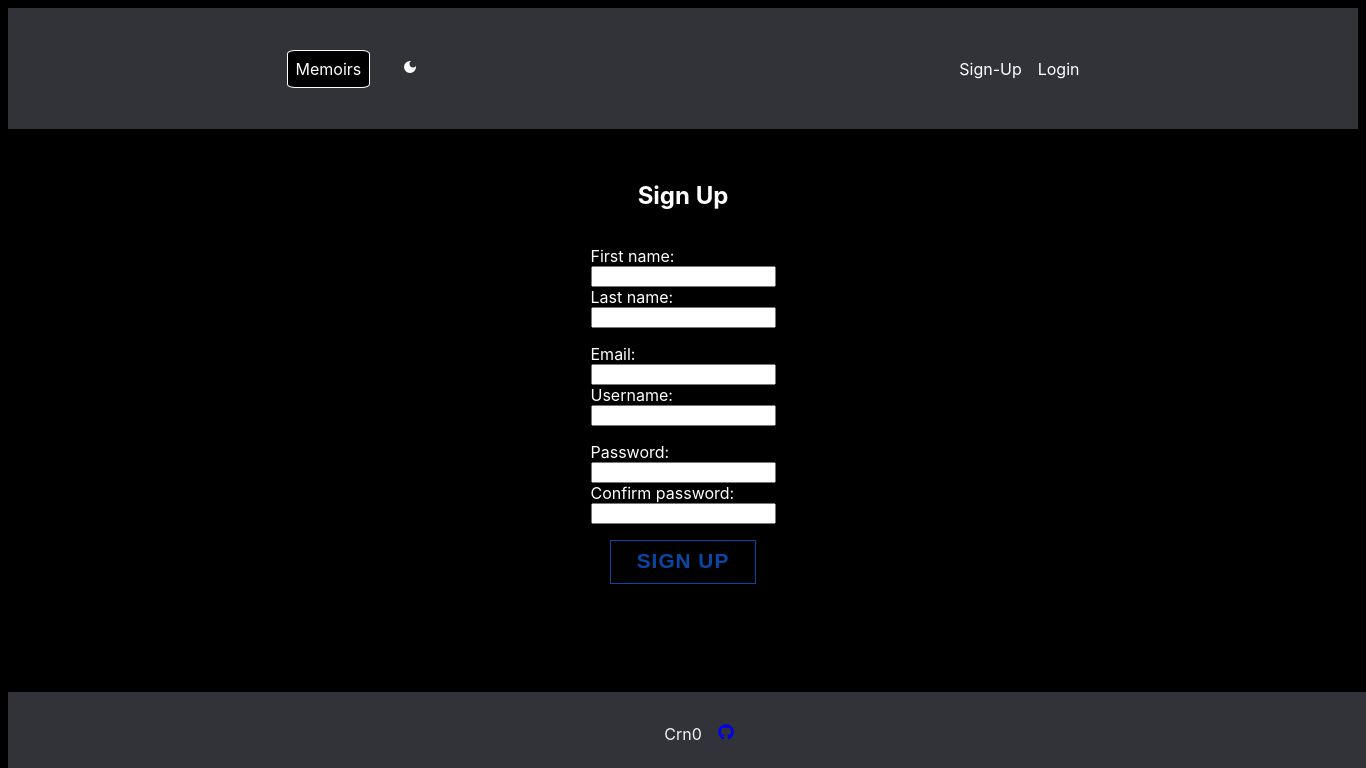
Test case: Sign-up form page › renders an error message if the username is already taken
Step 1. Type "Jane" into the field labelled "First name:" → (683, 276), box [590,266,776,287]
Step 2. Type "Doe" into the field labelled "Last name:" → (683, 318), box [590,307,776,328]
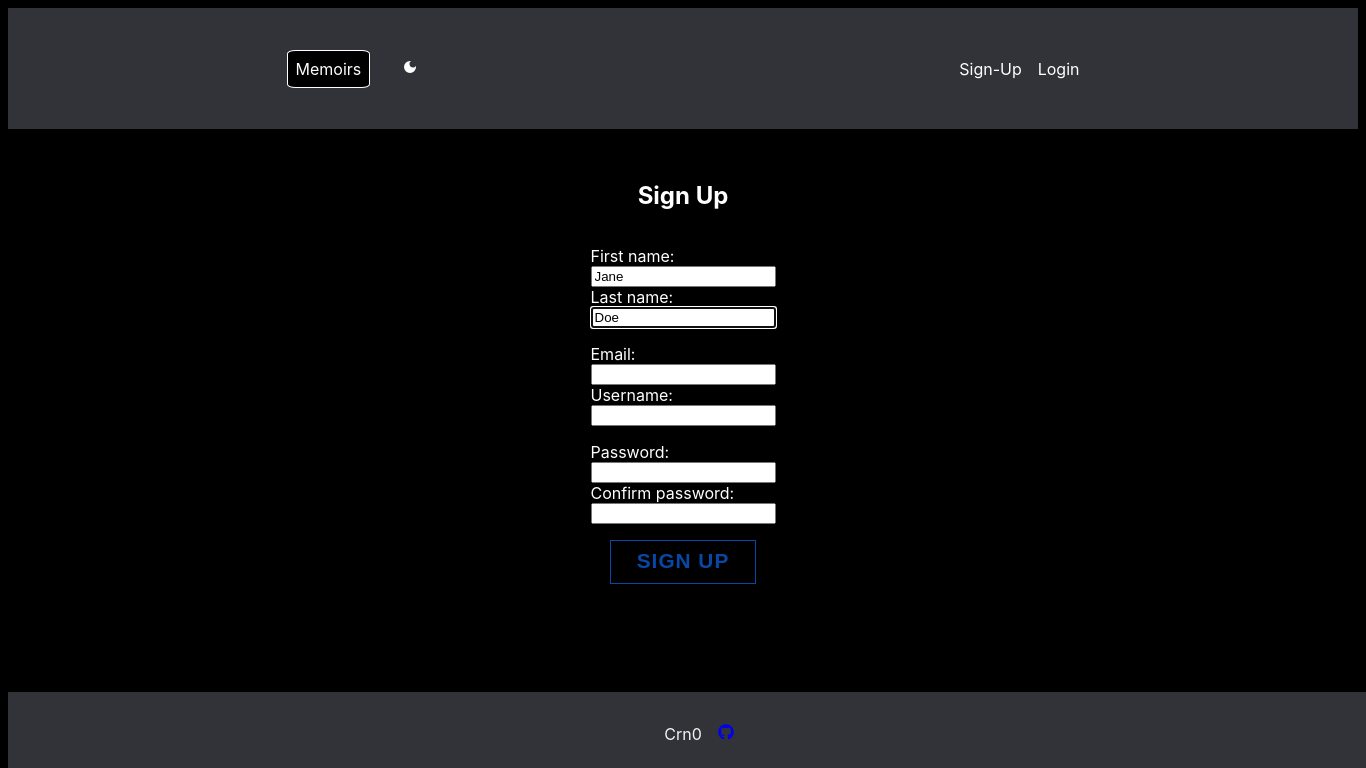
Step 3. Type "jaDoe" into the field labelled "Username:" → (683, 416), box [590,405,776,426]
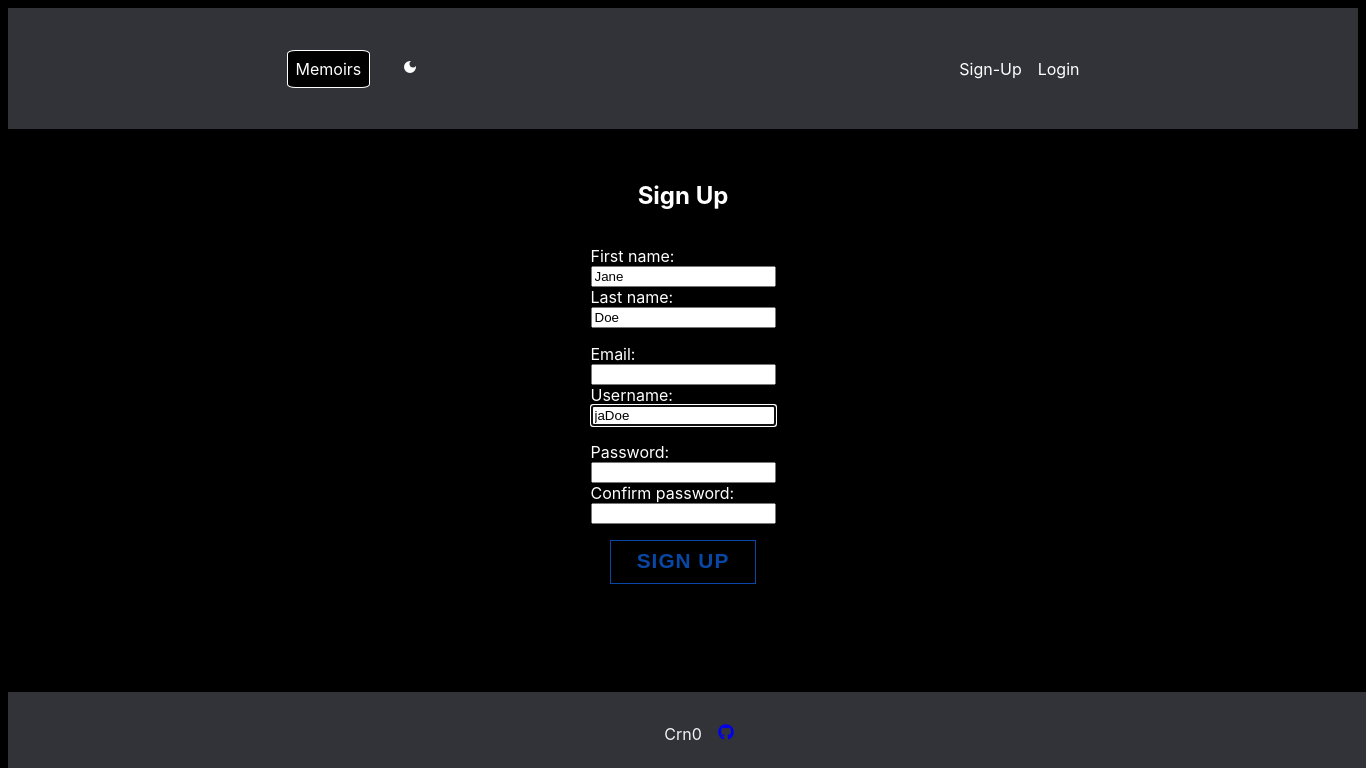
Step 4. Type "JD@gmail.com" into the field labelled "Email:" → (683, 374), box [590,364,776,385]
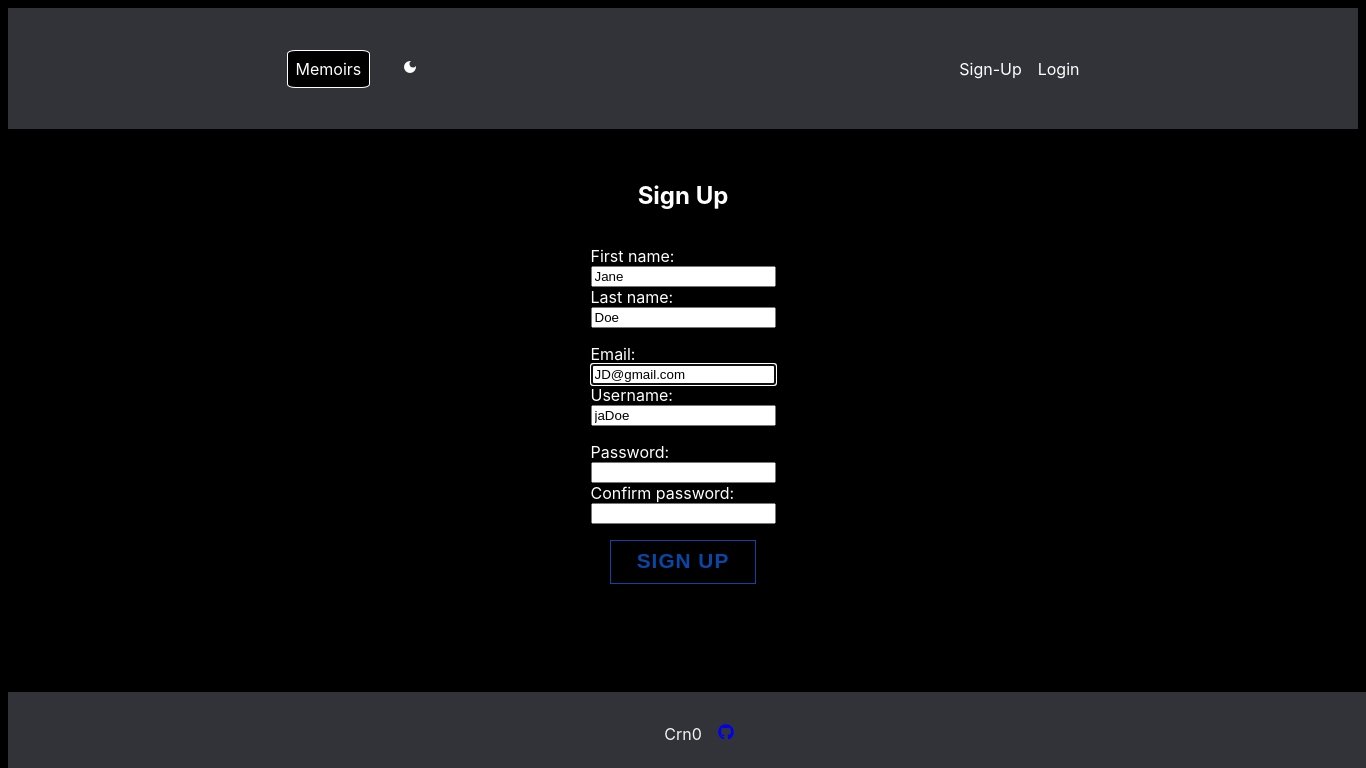
Step 5. Type "1234" into the password field labelled "Password:" → (683, 472), box [590,462,776,483]
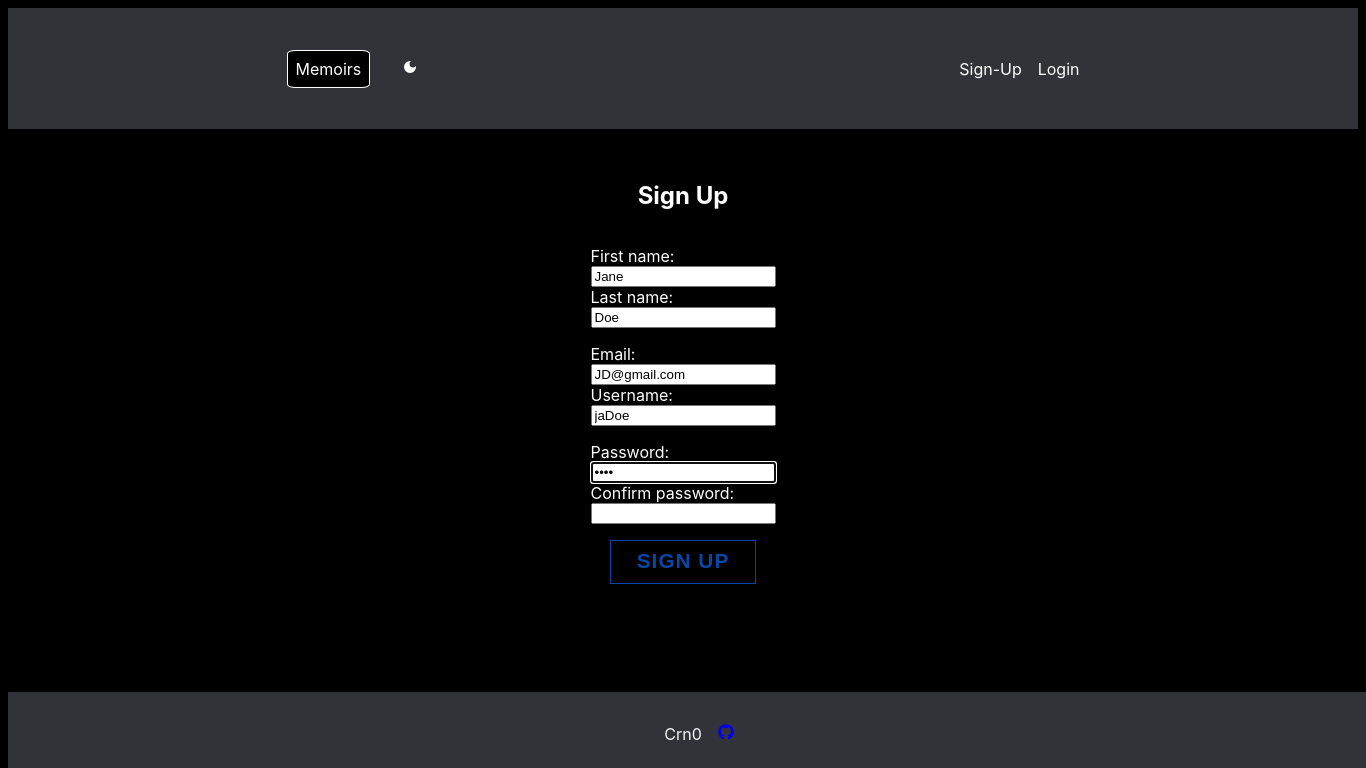
Step 6. Type "1234" into the password field labelled "Confirm password:" → (683, 514), box [590,503,776,524]
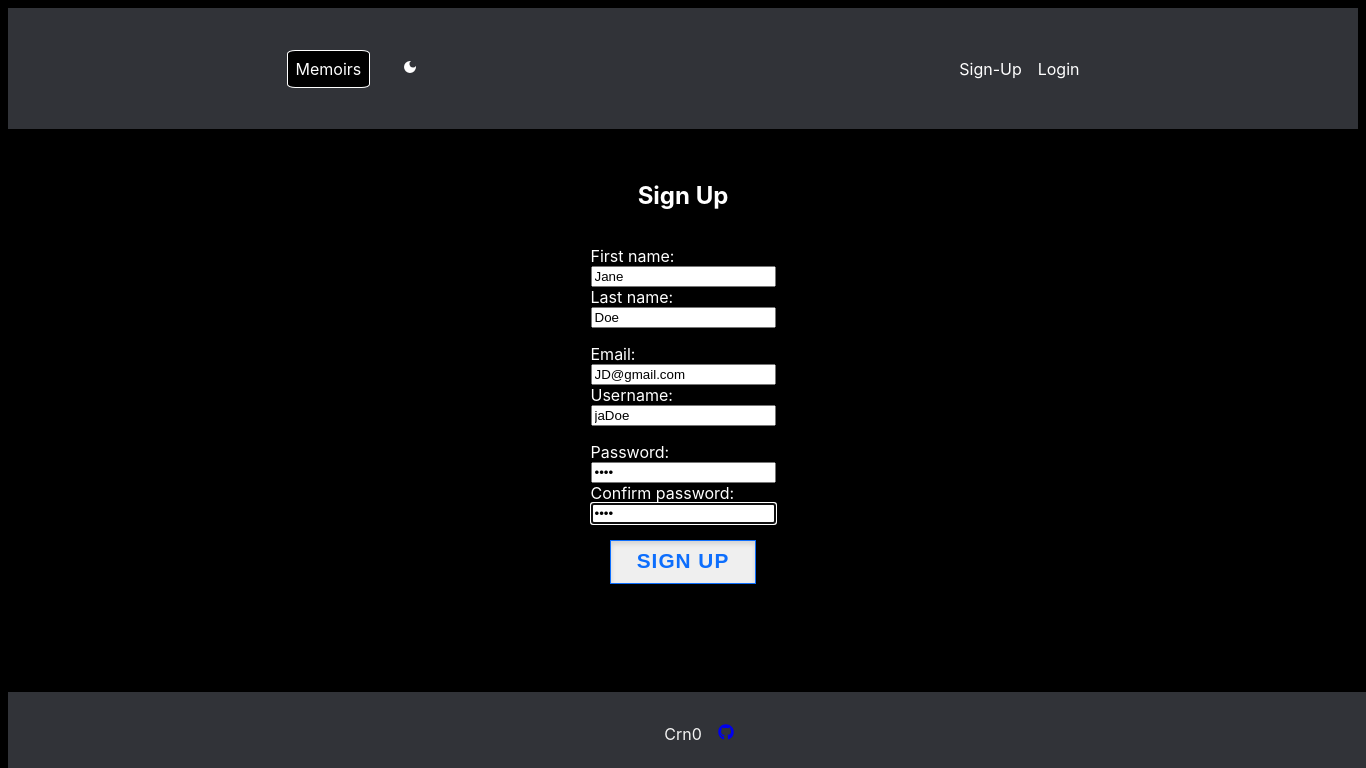
Step 7. Click the button "Sign Up" → (683, 562), box [610,540,756,584]
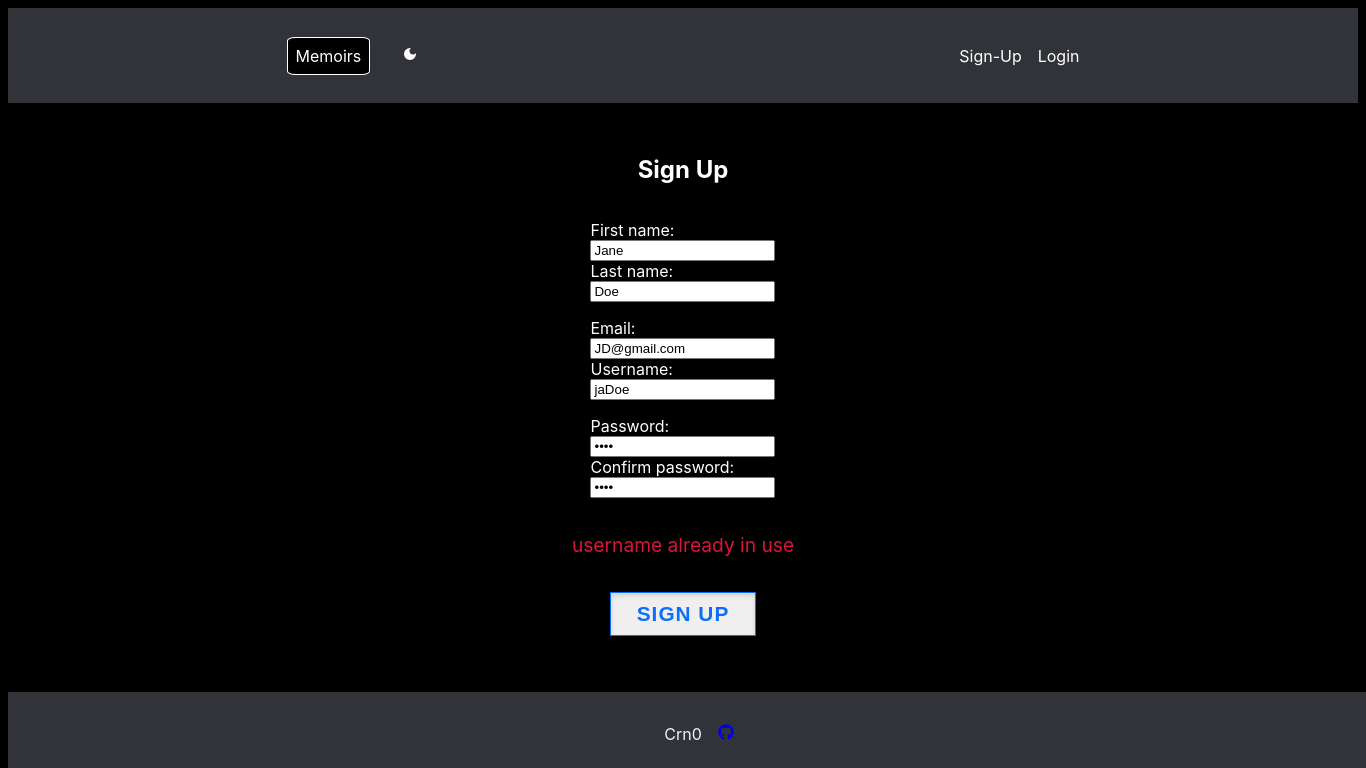
Expected: the text "username already in use" is shown, [572,533,794,557]
